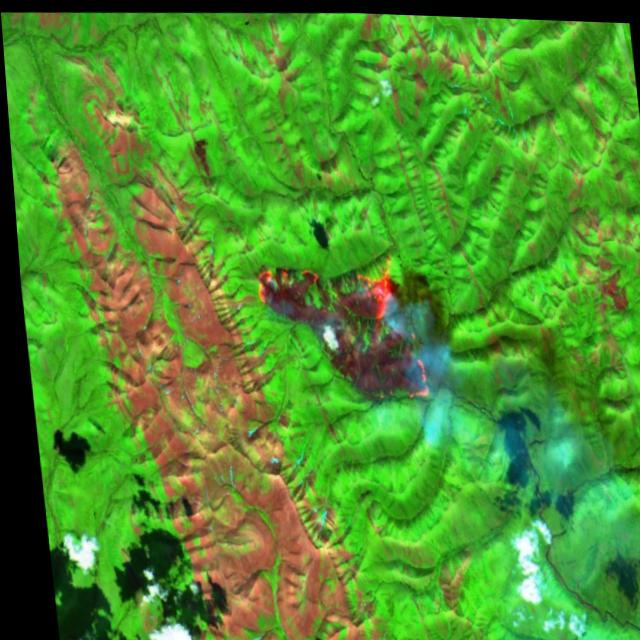fire: (245, 252, 430, 405)
